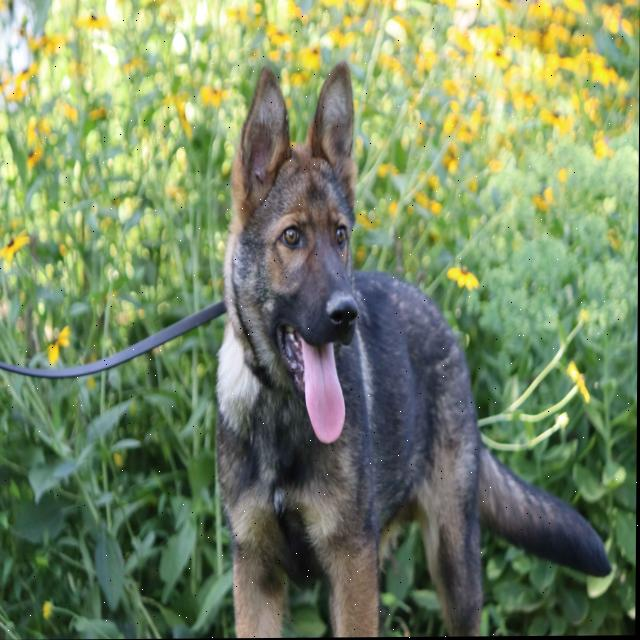GERMAN_SHEPHERD: (211, 63, 622, 639)
